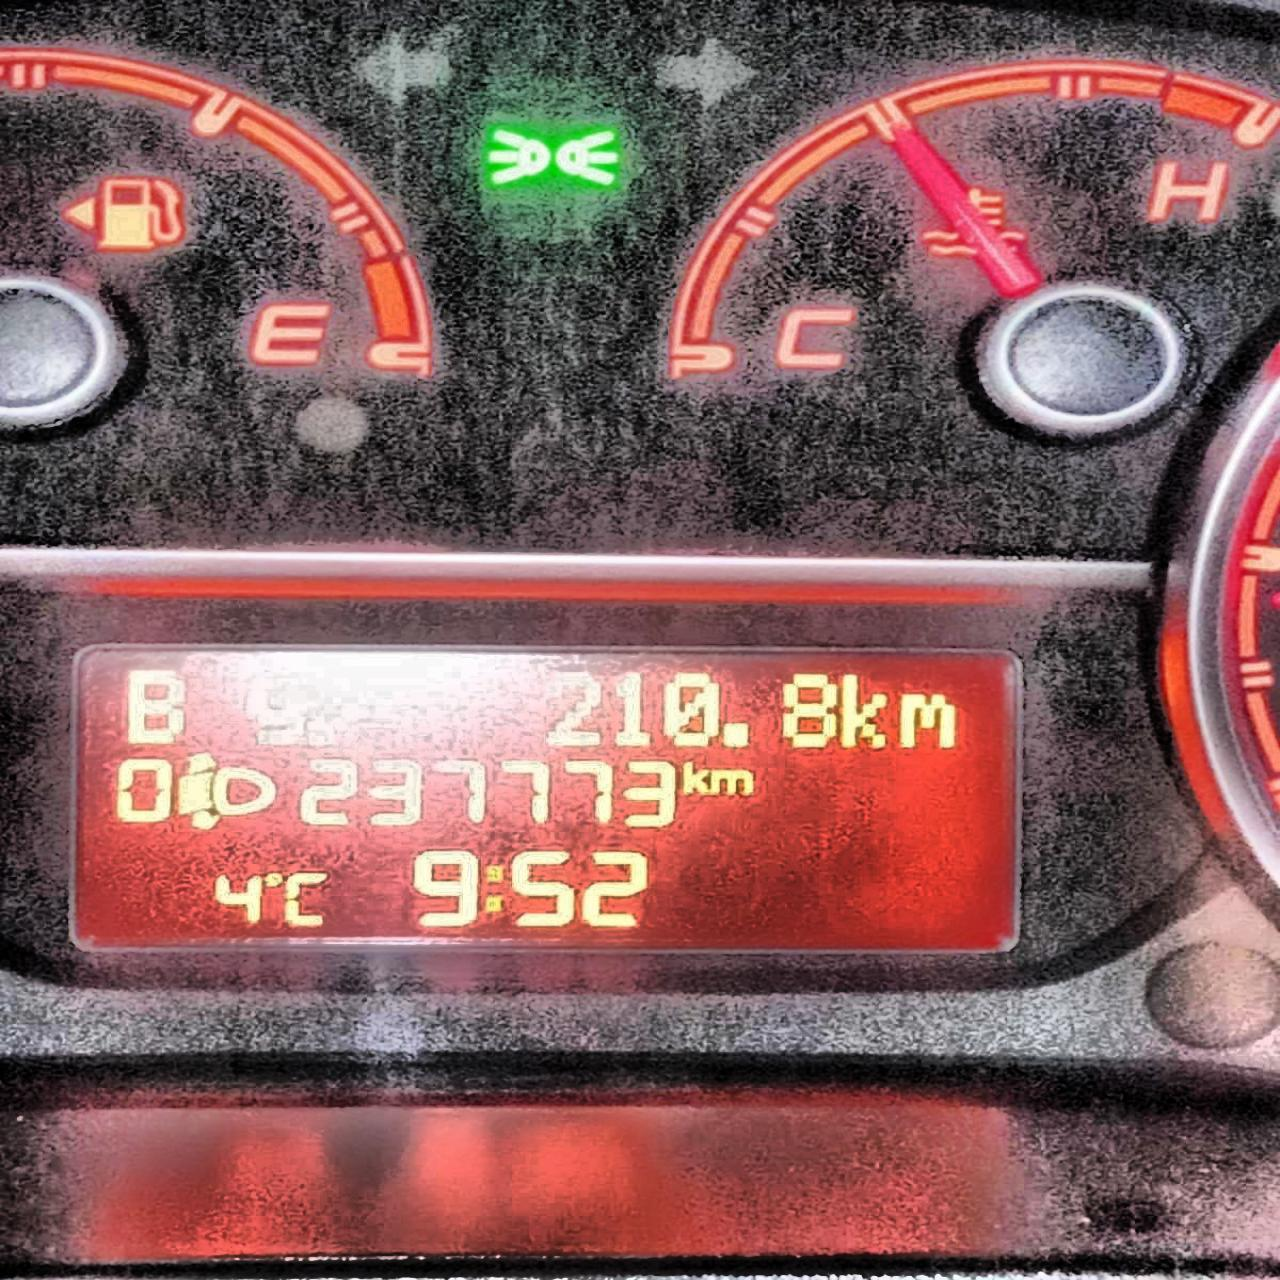-: (720, 720, 751, 748)
0: (661, 670, 719, 747), (111, 757, 173, 824)
1: (611, 669, 651, 747)
2: (579, 851, 649, 927), (538, 669, 602, 748), (297, 757, 356, 826)
3: (361, 757, 424, 829), (620, 760, 679, 828)
4: (211, 872, 264, 922)
5: (509, 850, 576, 927)
7: (496, 760, 553, 826), (434, 758, 489, 824), (560, 760, 614, 825)
8: (776, 672, 838, 749)
9: (410, 849, 481, 927)
X: (123, 666, 188, 744), (838, 668, 887, 749), (896, 692, 956, 748), (280, 870, 331, 928), (482, 863, 506, 914), (680, 761, 713, 796), (710, 769, 753, 796)
odometer: (64, 641, 1027, 958)
